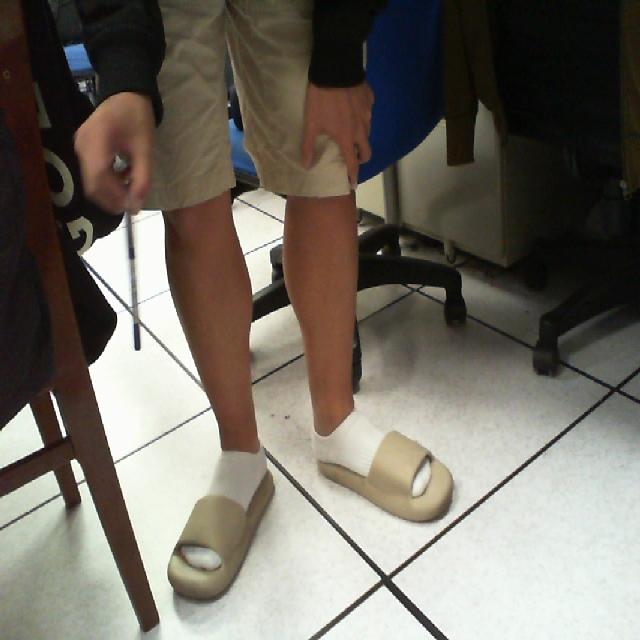Pen: (114, 153, 158, 387)
